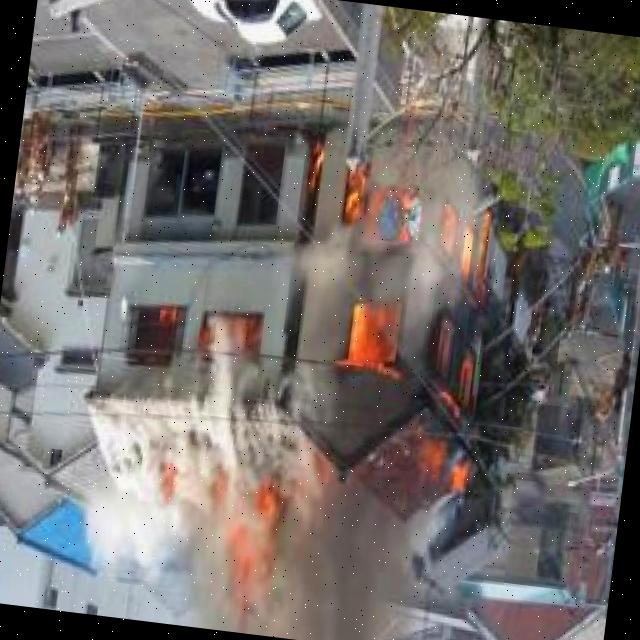fire: (268, 132, 516, 518), (211, 490, 281, 635), (146, 300, 188, 337), (154, 455, 181, 512)
